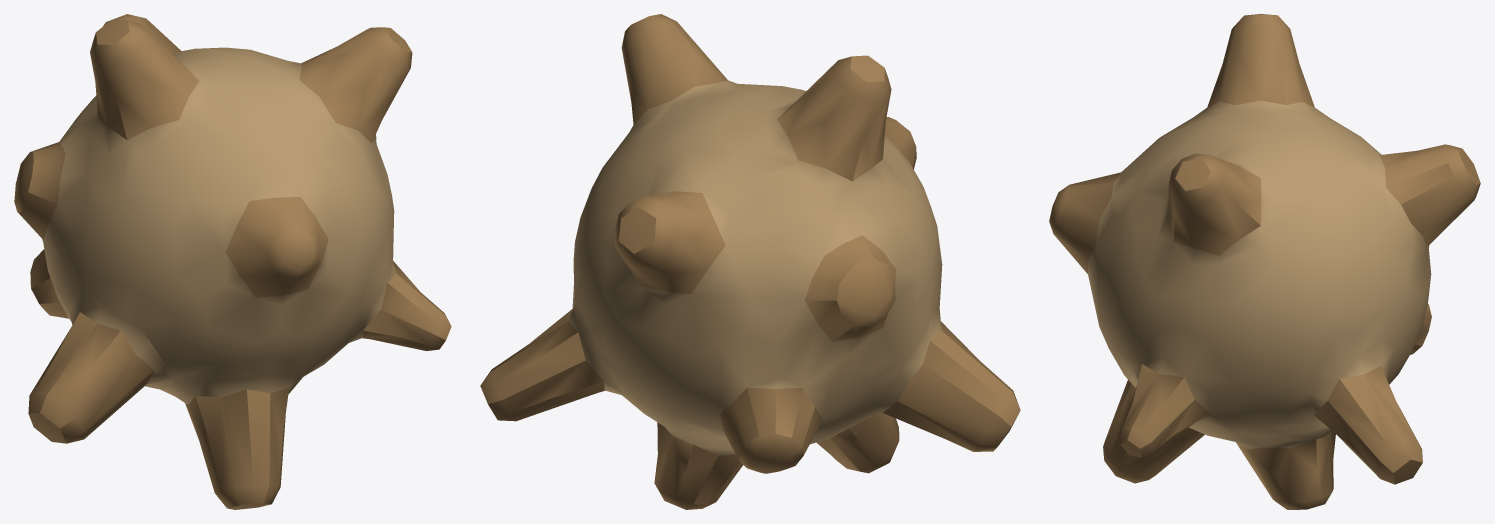
The model's file is quaternius-ultimate-space-planet-5.glb.
3 views of the same model, side by side, from view 1: azimuth 30°, elevation 25°; view 2: azimuth 150°, elevation 25°; view 3: azimuth 270°, elevation 25° (orthographic). The views are drawn at different scales.
Visible parts, largest first — view 1: Planet_5; view 2: Planet_5; view 3: Planet_5.
Boxes of the visible parts, x1,y1,x2,y2 form: Planet_5: (14,14,451,509); Planet_5: (480,14,1020,509); Planet_5: (1049,14,1480,509).
Bounding box in the file's own units: 4.23 × 4.52 × 4.03.
1 material, 1 textured.
